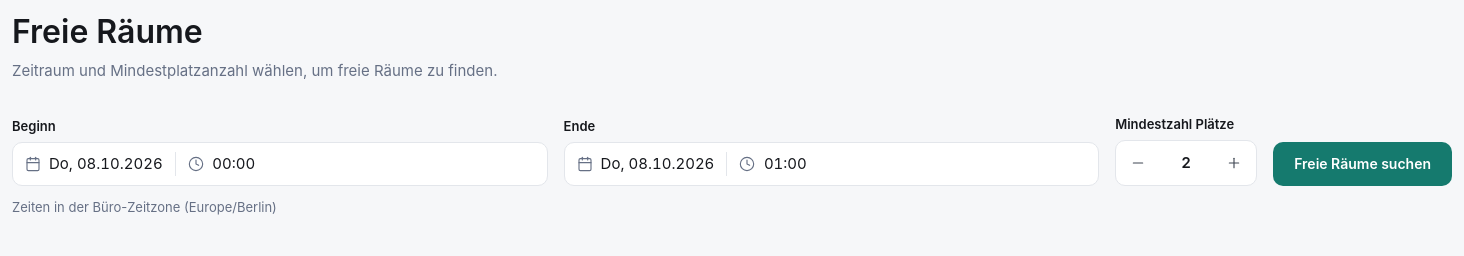
Scenario: FreeRoomsPage › guards an end before the start without issuing a request
Type "2026-03-11" into the date field with test id "free-rooms-start-date-input" at (280, 164), box [12, 142, 548, 186]
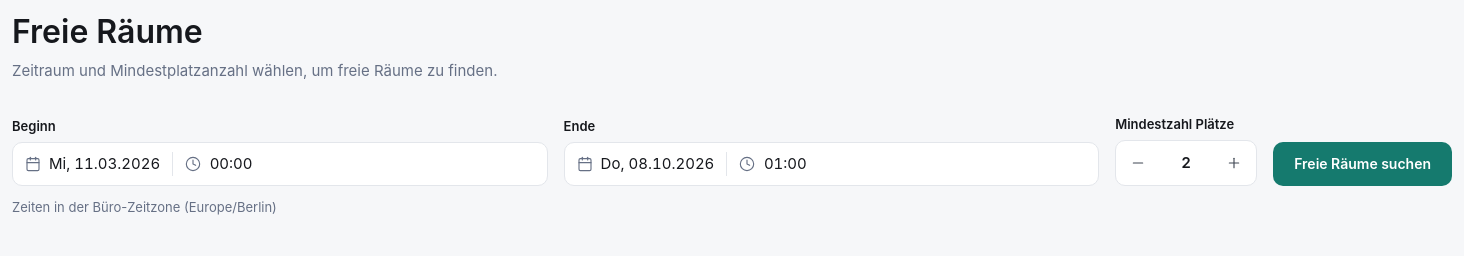
Replace the text in the time field with test id "free-rooms-start-time-input" with "10:00" at (280, 164), box [12, 142, 548, 186]
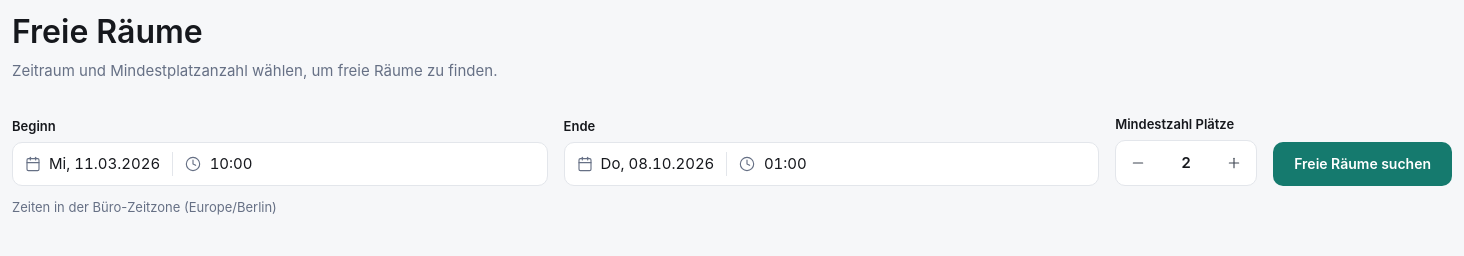
Type "2026-03-11" into the date field with test id "free-rooms-end-date-input" at (831, 164), box [564, 142, 1099, 186]
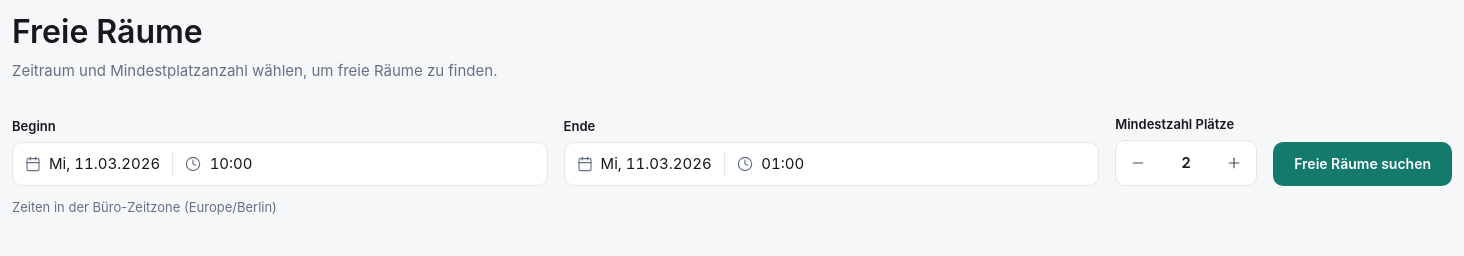
Replace the text in the time field with test id "free-rooms-end-time-input" with "09:00" at (831, 164), box [564, 142, 1099, 186]
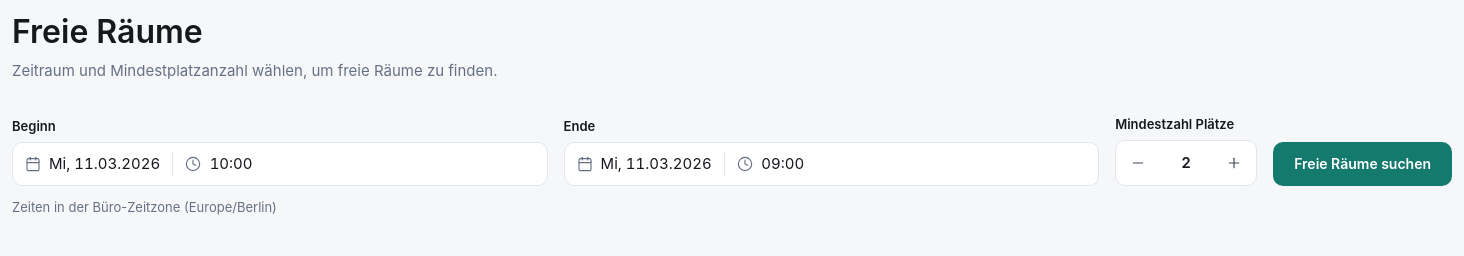
Click the button "Freie Räume suchen" at (1363, 164), box [1273, 142, 1452, 186]
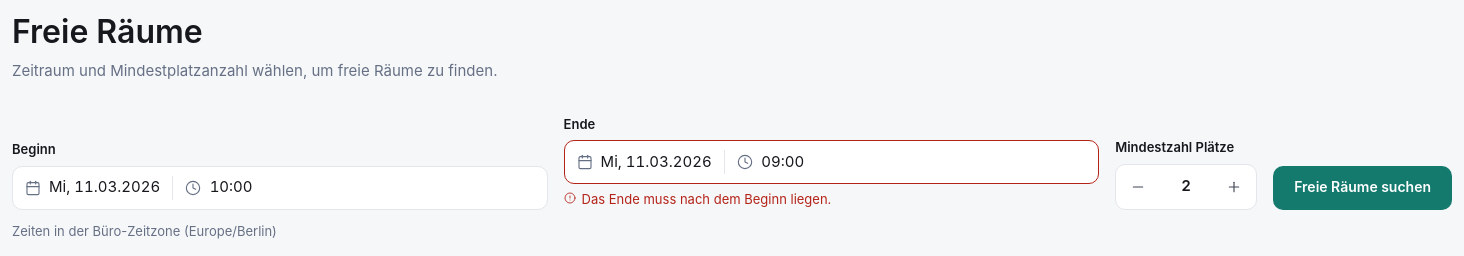
Check: the text "Das Ende muss nach dem Beginn liegen." is shown, box [564, 191, 831, 207]
